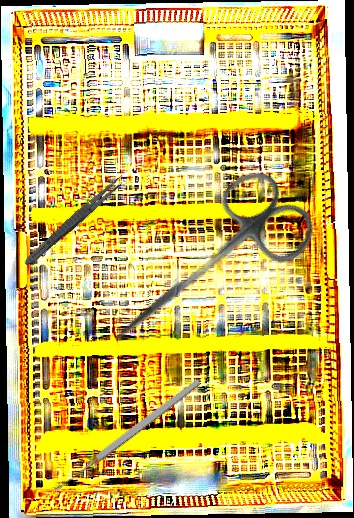Dressing Forceps: (21, 171, 128, 270)
Iris Scissors: (86, 158, 325, 381)
Surgical Spoon: (52, 377, 202, 495)
